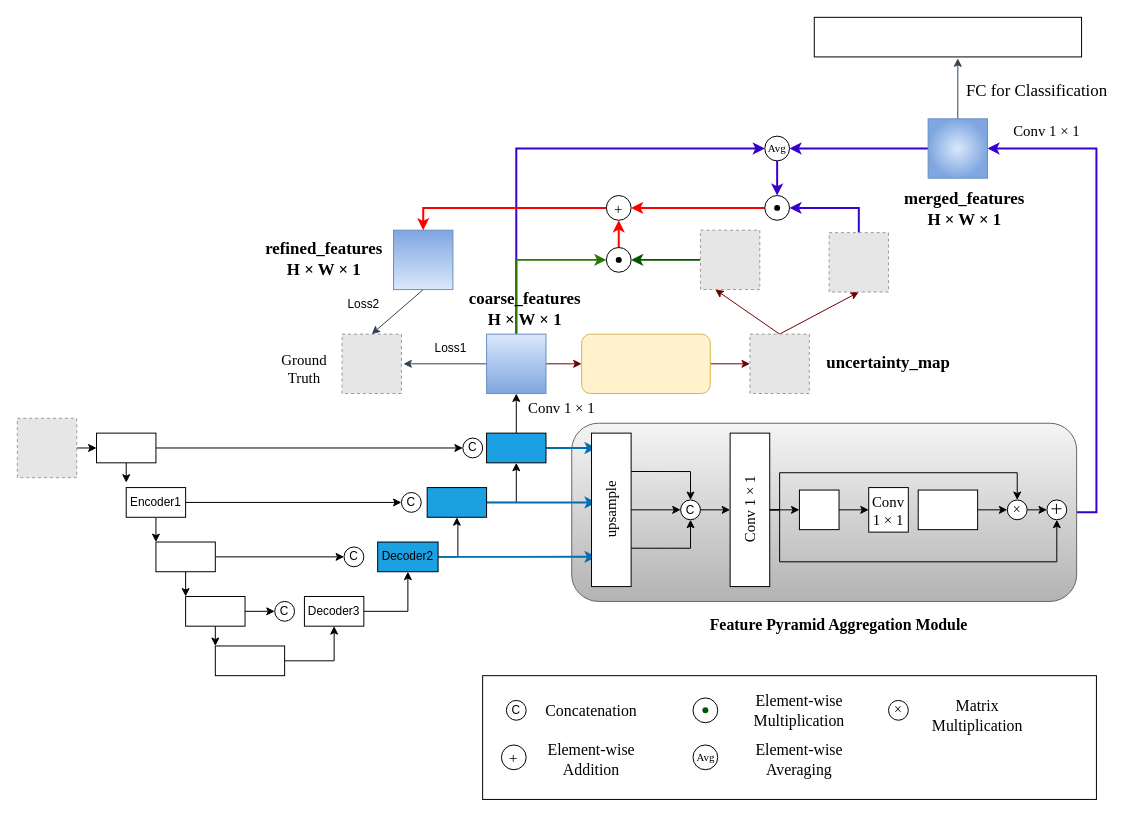
The diagram is 1134 pixels wide and 817 high, and some of its shapes have lost their labels. Grey dashed boxes stand in for pictures. Each missing label, with the centre of its shape:
"BottleNeck" belongs at pixel 249 660.
"Boundary Uncertainty Locating Module" belongs at pixel 645 363.
"Decoder0" belongs at pixel 516 447.
"Decoder1" belongs at pixel 456 502.
"Encoder0" belongs at pixel 126 447.
"Encoder2" belongs at pixel 185 556.
"Encoder3" belongs at pixel 215 610.
"GAP" belongs at pixel 818 509.
"Label: 0 (Benign) or 1 (Malignant)" belongs at pixel 947 36.
"Sigmoid" belongs at pixel 947 509.
